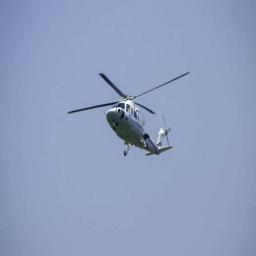helicopter: (67, 63, 193, 163)
